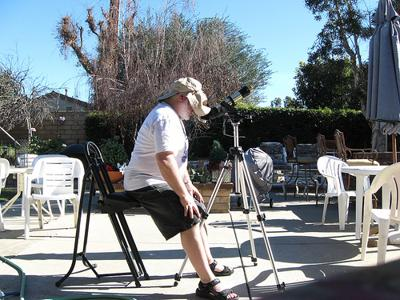person: (123, 78, 241, 300)
